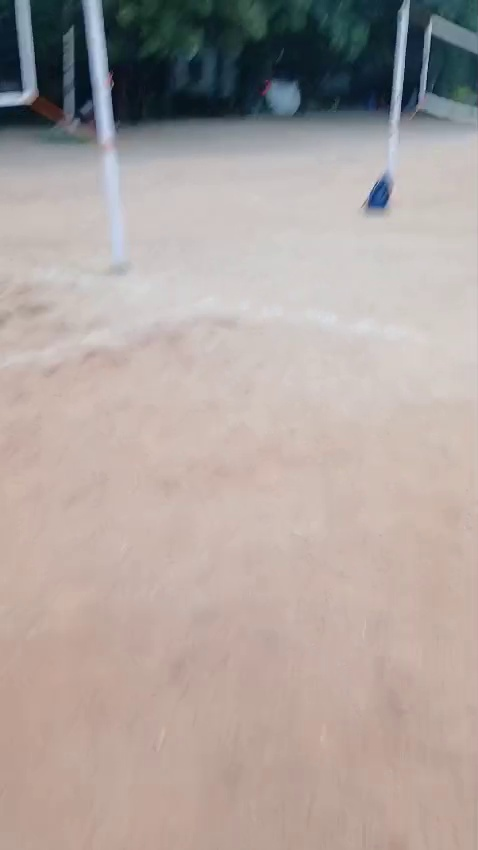bag: (360, 167, 392, 215)
